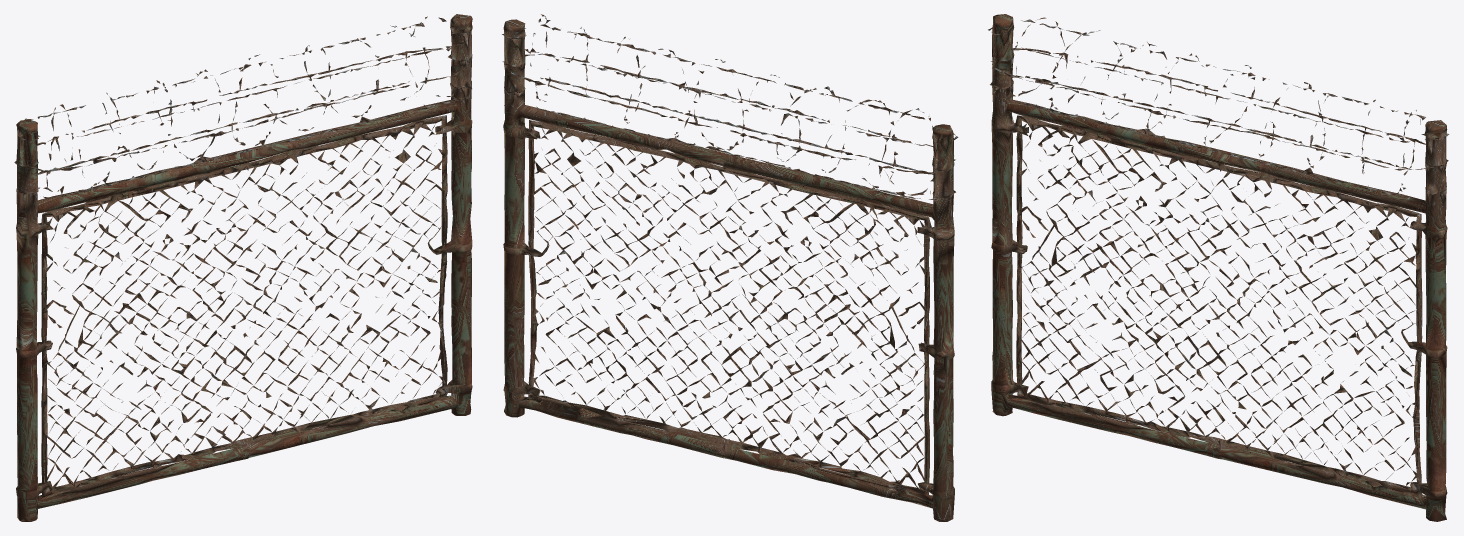
File: chain_link_fence.glb
3 renders of one model, left to right at view 1: azimuth 30°, elevation 25°; view 2: azimuth 150°, elevation 25°; view 3: azimuth 330°, elevation 25°, orthographic.
Bounding box in the file's own units: 2.12 × 1.8 × 0.3432.
1 material, 1 textured.
